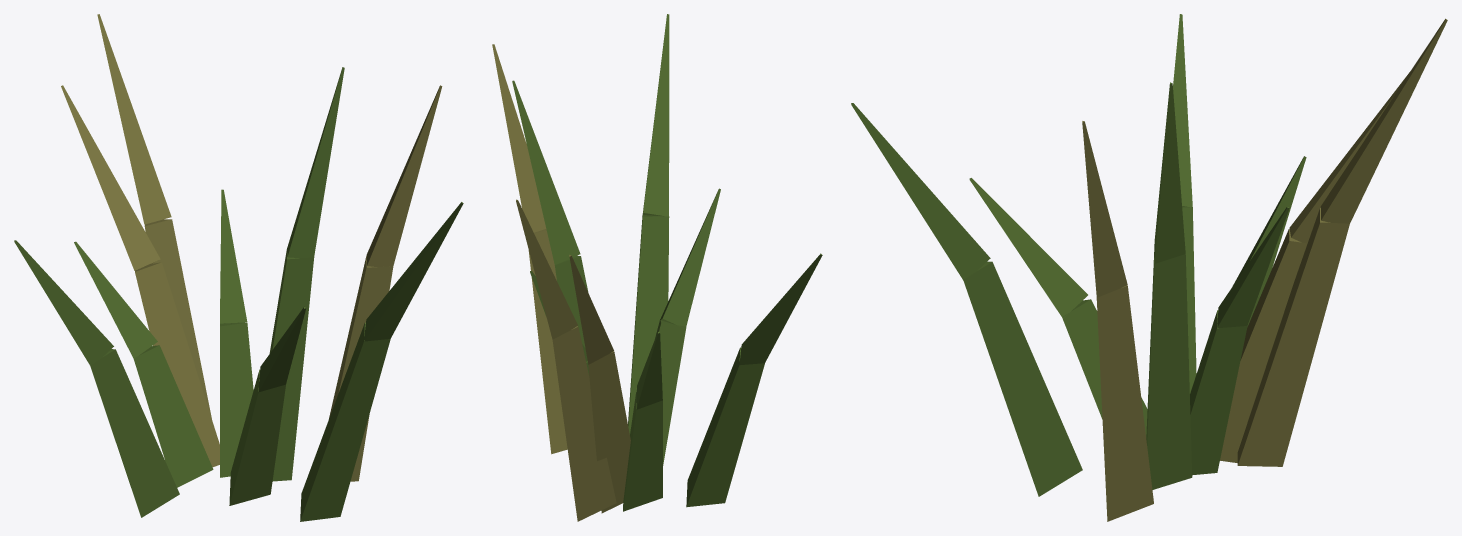
File: grass.glb
3 views of the same model, side by side, from view 1: azimuth 30°, elevation 25°; view 2: azimuth 150°, elevation 25°; view 3: azimuth 270°, elevation 25° (orthographic). The views are drawn at different scales.
Parts seen in each view (by area): view 1: Grass; view 2: Grass; view 3: Grass.
Boxes of the visible parts, x1,y1,x2,y2 form: Grass: (14,14,463,521); Grass: (492,14,822,521); Grass: (851,14,1447,521).
Bounding box in the file's own units: 0.2919 × 0.2859 × 0.3432.
